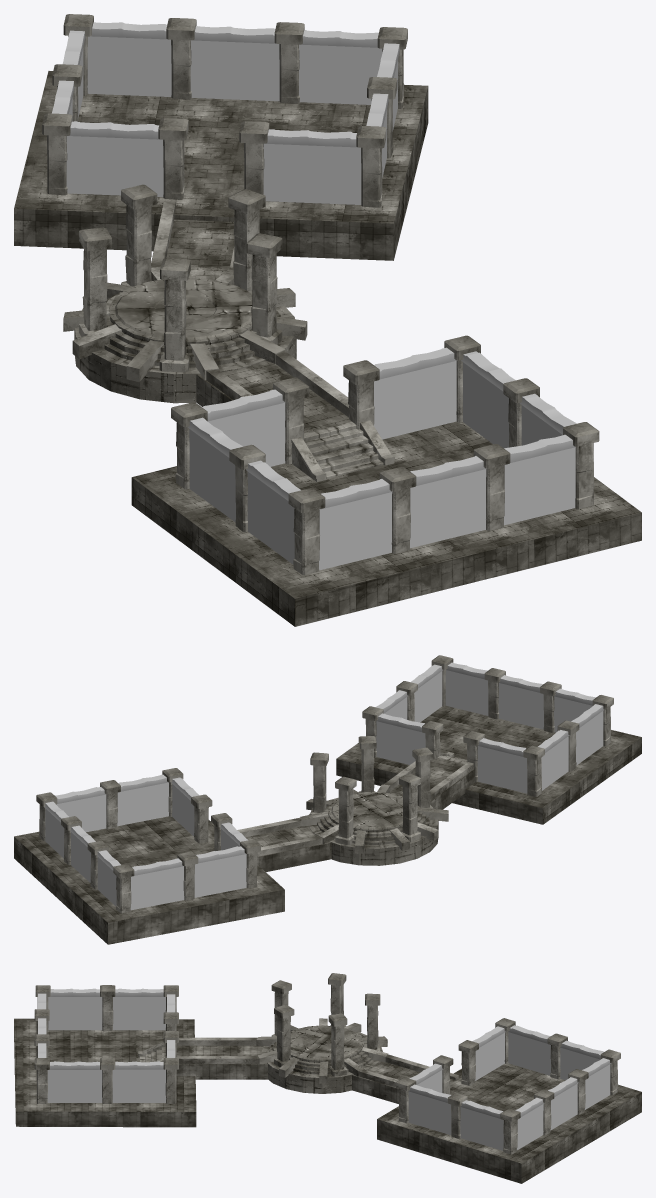
File: Level1.fbx
3 views of the same model, one above another, from view 1: azimuth 30°, elevation 25°; view 2: azimuth 150°, elevation 25°; view 3: azimuth 270°, elevation 25° (orthographic). The views are drawn at different scales.
Parts seen in each view (by area): view 1: Base1, Base2, Mid_Circle, _Wall5, _Wall2, _Wall10, Wall2, _Wall8, Wall10, _Wall7, Wall7, Wall8 (+37 smaller); view 2: Base1, Base2, Mid_Circle, _Wall4, Wall5, _Wall, _Wall6, pasted__Cube1, Wall10, Wall2, Wall8, _Wall9 (+36 smaller); view 3: Base1, Base2, Mid_Circle, Cube1, Wall9, Wall4, Wall, Wall6, _Wall9, _Wall6, _Wall, pasted__Cube1 (+28 smaller).
Boxes of the visible parts, <box> form: Base1: <box>14,71,428,260</box>; Base2: <box>131,421,641,626</box>; Mid_Circle: <box>74,277,296,403</box>; _Wall5: <box>263,129,361,204</box>; _Wall2: <box>66,121,163,197</box>; _Wall10: <box>190,25,279,101</box>; Wall2: <box>374,347,457,439</box>; _Wall8: <box>87,22,171,96</box>; Wall10: <box>410,456,486,548</box>; _Wall7: <box>299,30,382,104</box>; Wall7: <box>319,479,392,570</box>; Wall8: <box>504,434,575,525</box>; Base1: <box>14,816,284,944</box>; Base2: <box>336,706,641,824</box>; Mid_Circle: <box>308,792,438,865</box>; _Wall4: <box>130,858,184,910</box>; Wall5: <box>477,738,527,793</box>; _Wall: <box>194,846,246,897</box>; _Wall6: <box>117,774,168,826</box>; pasted__Cube1: <box>245,826,331,871</box>; Wall10: <box>498,675,543,729</box>; Wall2: <box>376,713,425,764</box>; Wall8: <box>445,662,488,715</box>; _Wall9: <box>55,787,106,832</box>; Base1: <box>377,1063,641,1183</box>; Base2: <box>14,1018,196,1127</box>; Mid_Circle: <box>261,1025,382,1093</box>; Cube1: <box>176,1045,267,1079</box>; Wall9: <box>48,988,102,1030</box>; Wall4: <box>47,1061,102,1102</box>; Wall: <box>112,1061,165,1102</box>; Wall6: <box>113,988,165,1030</box>; _Wall9: <box>460,1100,503,1150</box>; _Wall6: <box>408,1084,451,1135</box>; _Wall: <box>508,1025,550,1075</box>; pasted__Cube1: <box>352,1061,420,1103</box>.
Size of the model in its own units: 47.05 by 11.75 by 78.36.
